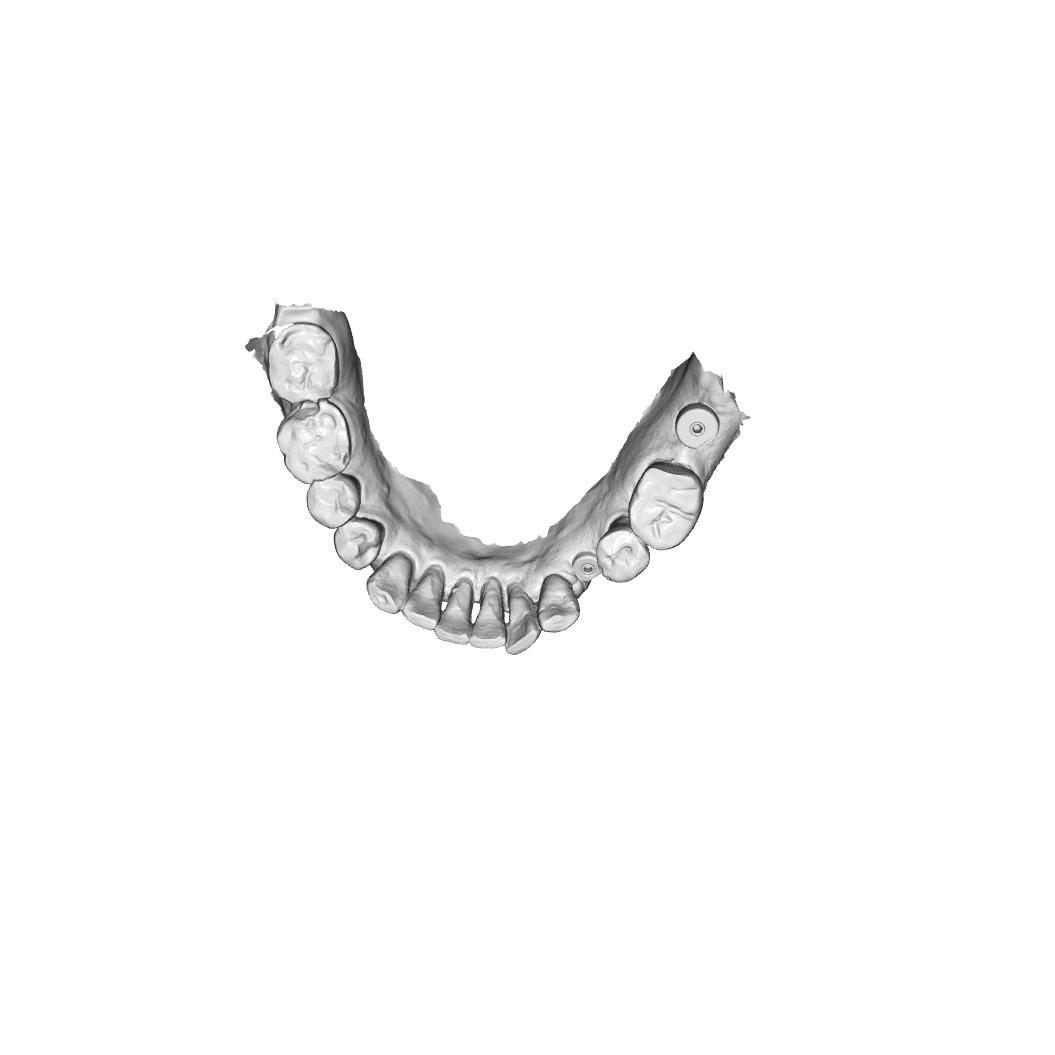canine: (363, 553, 416, 618), (536, 573, 580, 634)
implant: (675, 402, 719, 449), (572, 549, 602, 586)
incisor: (503, 578, 542, 657), (401, 568, 444, 632), (469, 589, 511, 652), (434, 586, 475, 645)
molar: (626, 462, 706, 553), (274, 400, 355, 485), (266, 321, 340, 407)
premolar: (303, 472, 363, 532), (596, 521, 649, 585), (330, 515, 387, 572)
